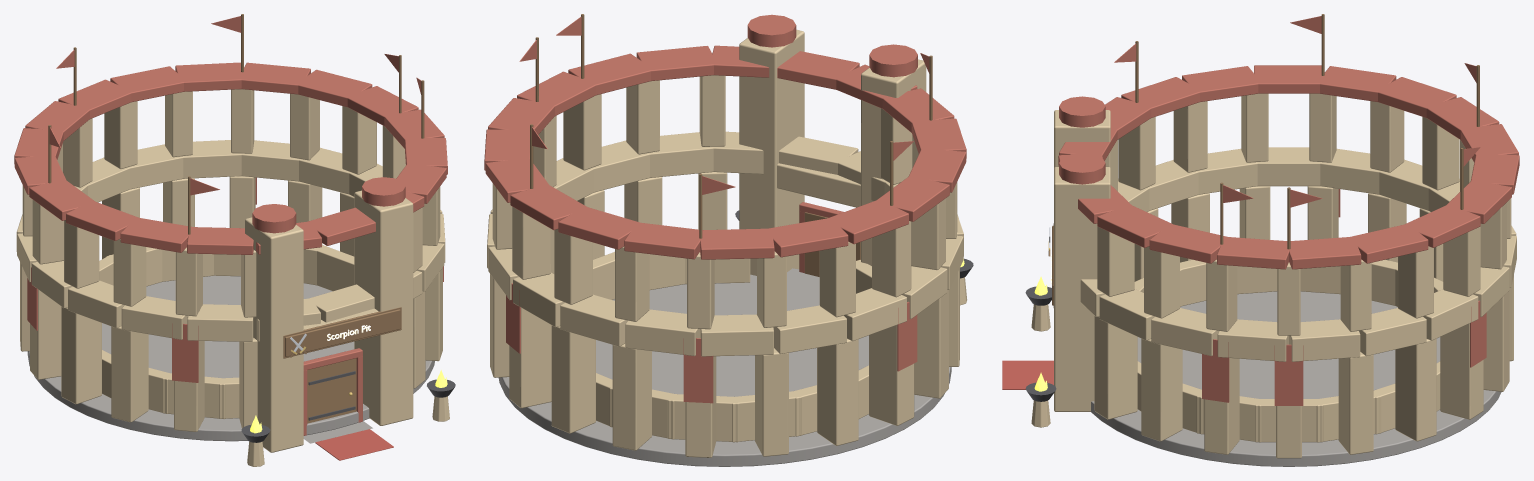
Rendered from scorpion_pit.fbx.
3 views of the same model, side by side, from view 1: azimuth 30°, elevation 25°; view 2: azimuth 150°, elevation 25°; view 3: azimuth 270°, elevation 25° (orthographic). The views are drawn at different scales.
Visible parts, largest first — view 1: scorpion_pit; view 2: scorpion_pit; view 3: scorpion_pit.
Part boxes in pixels (x1=…): scorpion_pit: x1=14, y1=14, x2=455, y2=466; scorpion_pit: x1=484, y1=14, x2=973, y2=466; scorpion_pit: x1=1002, y1=14, x2=1519, y2=466.
Size of the model in its own units: 17.8 by 11.75 by 20.03.
